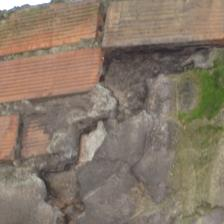Crack: (19, 77, 120, 166), (1, 78, 109, 143)
